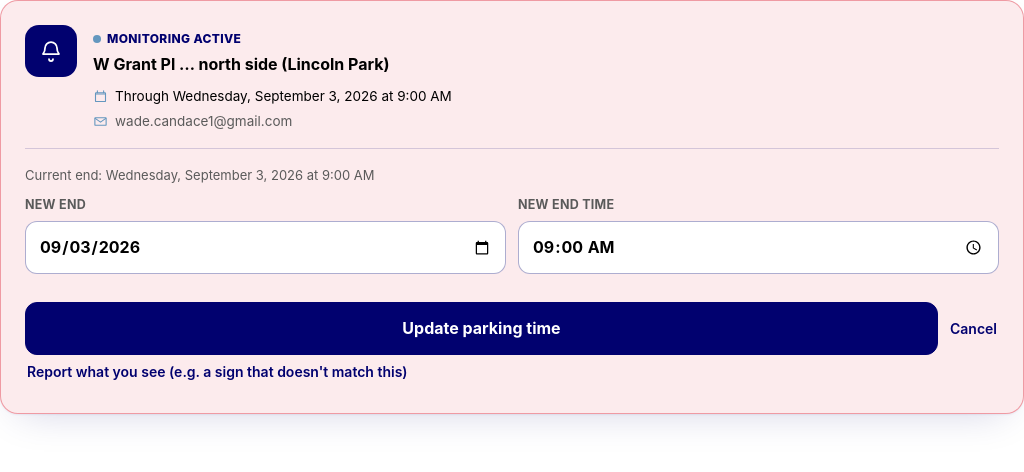
MonitorBanner › API failure shows an error and does not mutate local monitor state
The width and height of the screenshot is (1024, 472).
In the date field labelled "New end": [266, 248] box [25,221,506,274], type "2026-09-06"
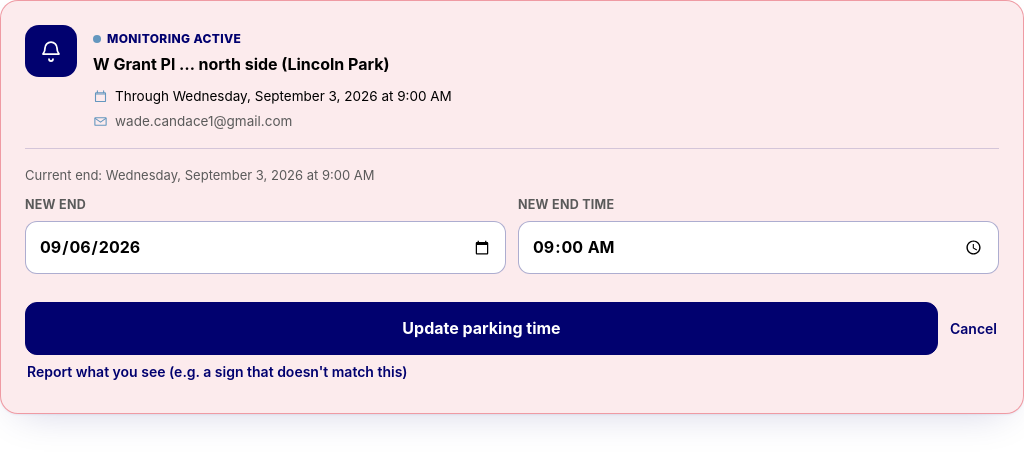
Click the button "Update parking time": [482, 328] box [25,302,938,355]
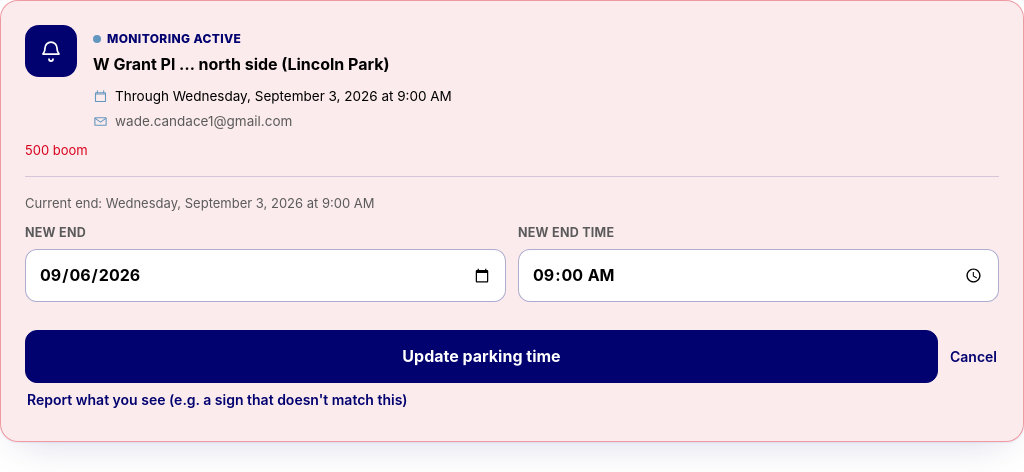
expect the text "500 boom" is shown: met, box [25,142,88,158]
